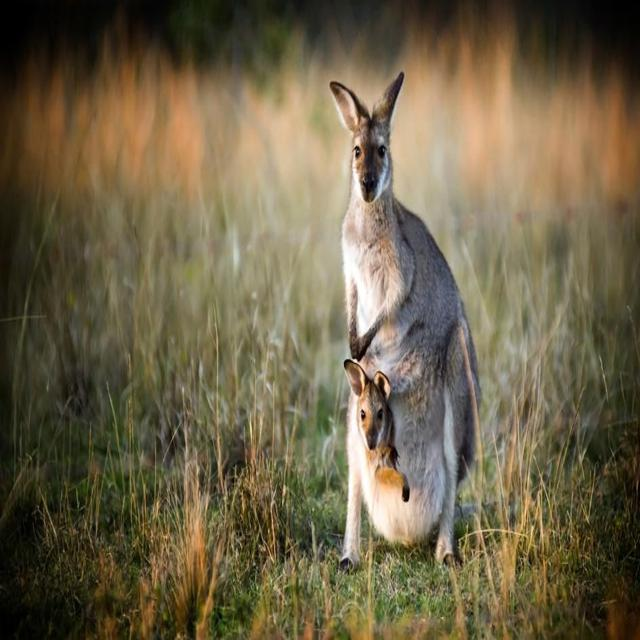kangaroo: (321, 70, 472, 573), (339, 357, 398, 454)
